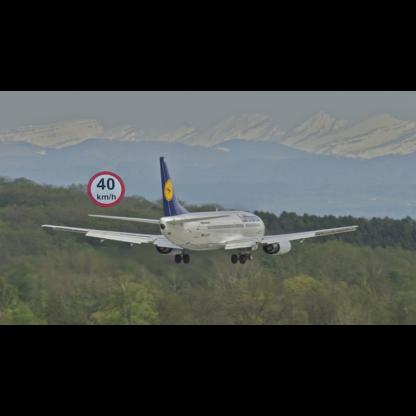R-19: (87, 171, 125, 207)
